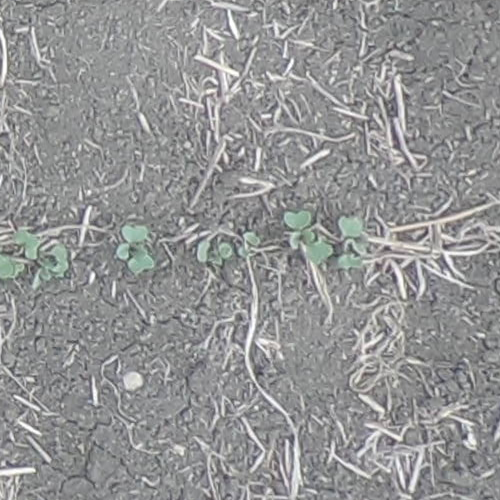plant: (0, 229, 69, 279), (284, 209, 334, 267), (115, 223, 156, 274), (337, 213, 368, 271), (196, 240, 233, 267), (238, 231, 260, 258)
